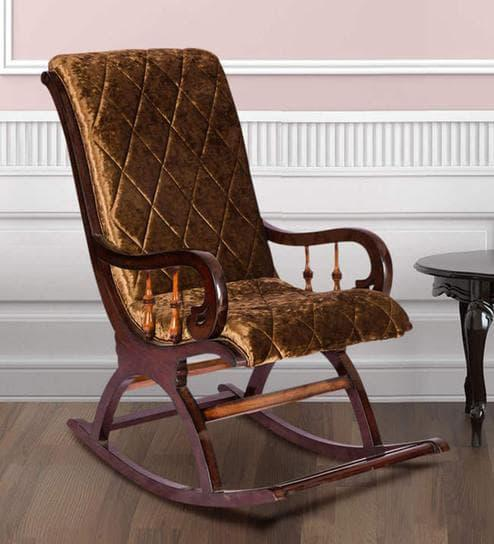chair: (30, 46, 464, 515)
